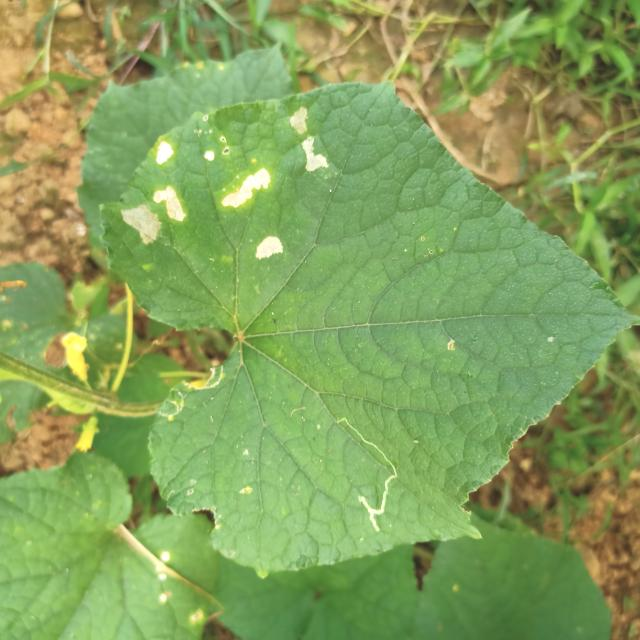disease_cucumber: (116, 133, 189, 249), (200, 128, 274, 213), (288, 104, 332, 177), (253, 232, 283, 261)
